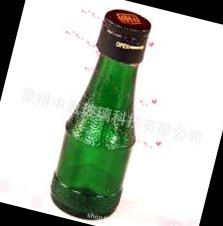glass: (25, 0, 185, 226)
